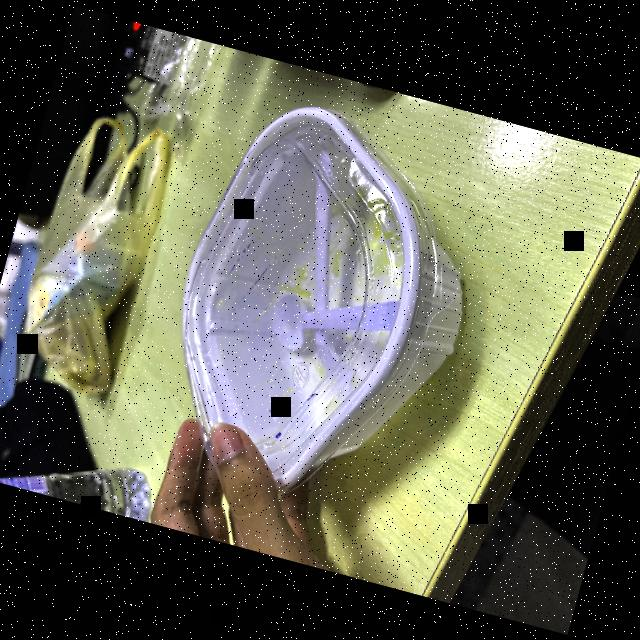plastic_box: (128, 75, 516, 531)
